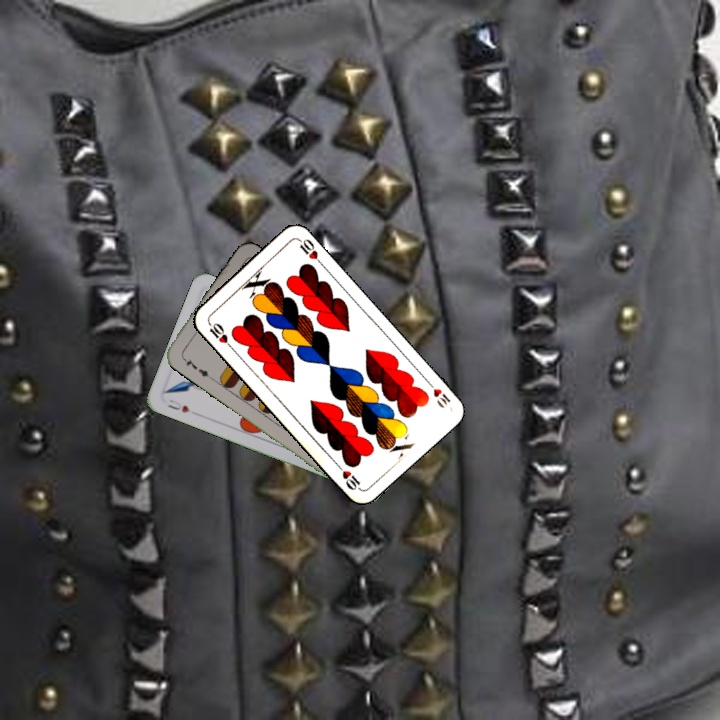E7: (178, 353, 213, 381)
H10: (422, 376, 453, 411), (204, 318, 235, 351)
HU: (164, 395, 192, 415)
